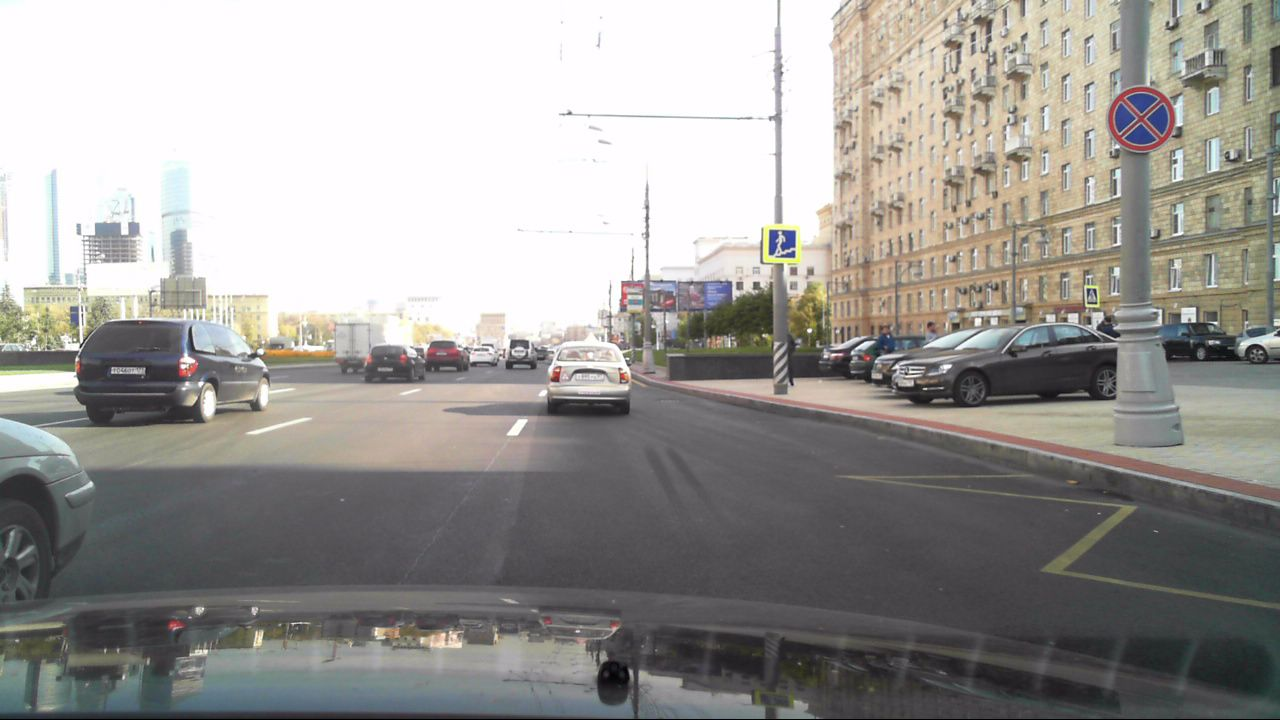No Parking: (1107, 85, 1176, 153)
